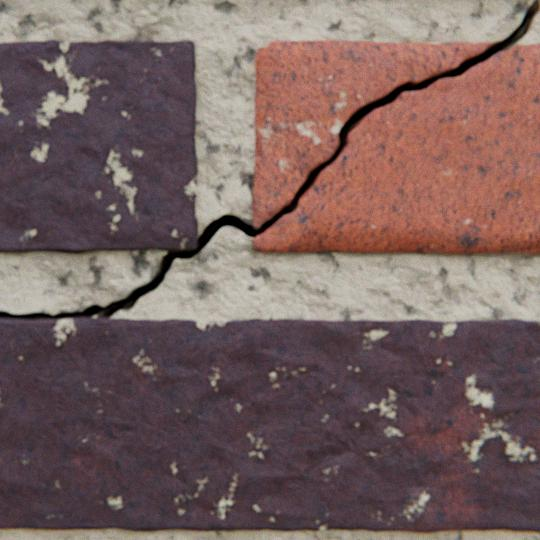brick: (0, 318, 539, 531), (0, 40, 198, 252)
broken_brick: (254, 44, 539, 253), (252, 41, 490, 228)
crack: (0, 0, 539, 319)
